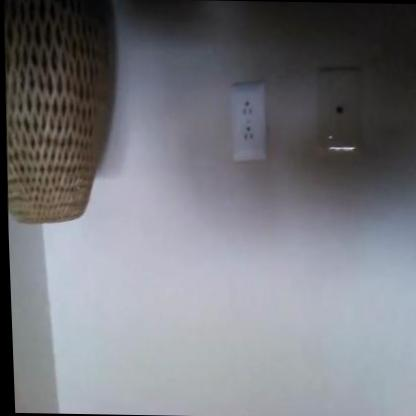OUTLET: (229, 86, 268, 162)
